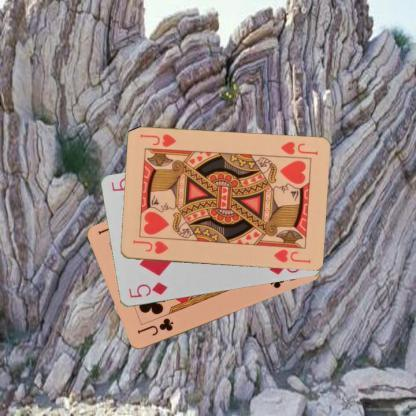5d: (126, 280, 168, 300)
Jc: (134, 316, 176, 338)
Jh: (274, 139, 318, 161), (130, 237, 170, 255)
